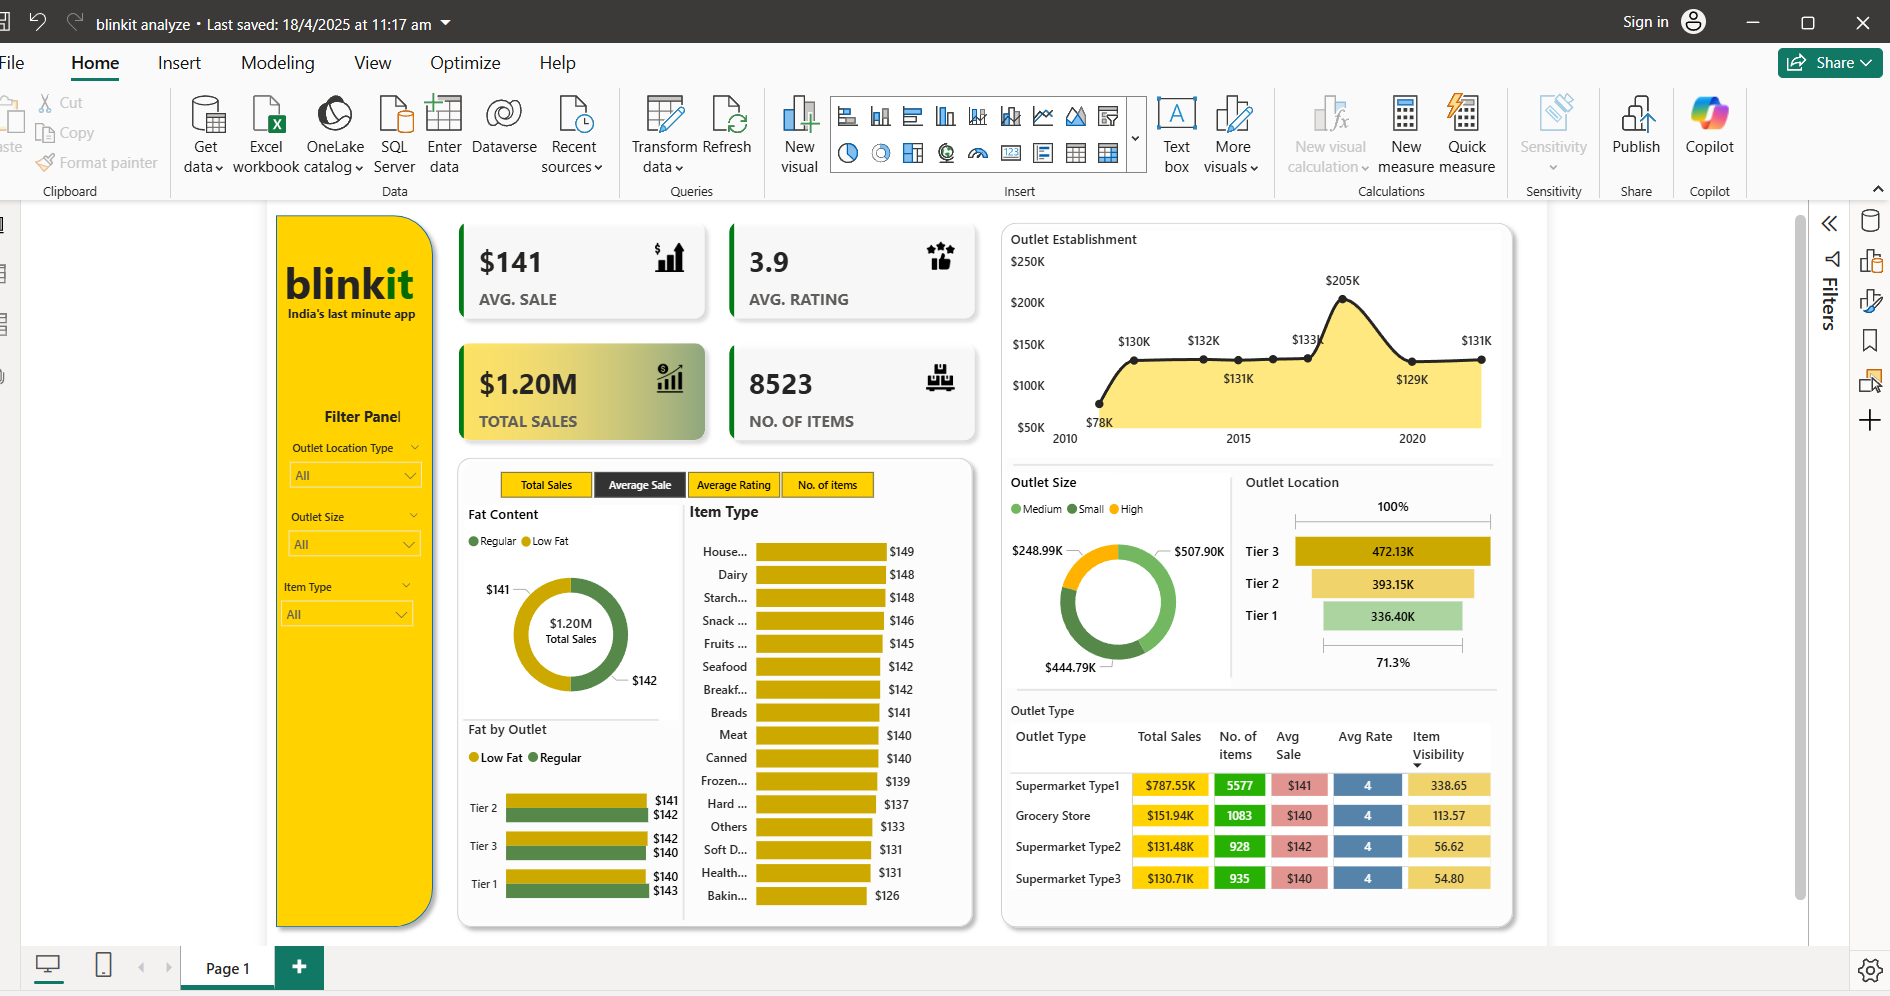

The dashboard page shown, as its layout file describes it:
{"tool":"powerbi","page":{"name":"Page 1","canvas":[1280,800],"ordinal":0},"visuals":[{"type":"shape","box":[0,10,175,730],"z":0},{"type":"textbox","box":[12.5,51.2,162.5,67.5],"z":1000},{"type":"textbox","box":[12.5,102.5,173.8,65],"z":2000},{"type":"cardVisual","fields":{"Data":["BlinkIT Grocery Data.Average Sale","BlinkIT Grocery Data.Average Rating","BlinkIT Grocery Data.Total Sales","BlinkIT Grocery Data.No. of items"]},"box":[175,8.8,550,252.5],"z":3000},{"type":"shape","box":[181.2,252.5,533.8,487.5],"z":4000},{"type":"donutChart","title":"Fat Content","fields":{"Y":["BlinkIT Grocery Data.Average Sale"],"Category":["BlinkIT Grocery Data.Item Fat Content"]},"box":[196.2,308.8,215,215],"z":5000},{"type":"slicer","fields":{"Values":["Metrics.Metrics"]},"box":[207,269,423,40],"z":6000},{"type":"cardVisual","fields":{"Data":["BlinkIT Grocery Data.Total Sales"]},"box":[252.5,400,103.8,67],"z":7000},{"type":"clusteredBarChart","title":"Fat by Outlet","fields":{"Y":["BlinkIT Grocery Data.Average Sale"],"Category":["BlinkIT Grocery Data.Outlet Location Type"],"Series":["BlinkIT Grocery Data.Item Fat Content"]},"box":[196.2,523.8,220,200],"z":8000},{"type":"shape","box":[196.2,491.2,196.2,65],"z":9000},{"type":"shape","box":[397.5,308.8,38.8,415],"z":10000},{"type":"barChart","title":" Item Type","fields":{"Y":["BlinkIT Grocery Data.Average Sale"],"Category":["BlinkIT Grocery Data.Item Type"]},"box":[417.5,305,235,418.8],"z":11000},{"type":"shape","box":[725,17.5,530,722.5],"z":12000},{"type":"lineChart","title":" Outlet Establishment ","fields":{"Y":["BlinkIT Grocery Data.Total Sales"],"Category":["BlinkIT Grocery Data.Outlet Establishment Year"]},"box":[738.8,33.8,495,227.5],"z":13000},{"type":"shape","box":[746.2,256.2,480,25],"z":14000},{"type":"donutChart","title":"Outlet Size","fields":{"Y":["BlinkIT Grocery Data.Total Sales"],"Category":["BlinkIT Grocery Data.Outlet Size"]},"box":[738.8,276.2,225,215],"z":15000},{"type":"shape","box":[945,281.2,38.8,200],"z":16000},{"type":"funnel","title":"Outlet Location","fields":{"Y":["Sum(BlinkIT Grocery Data.Sales)"],"Category":["BlinkIT Grocery Data.Outlet Location Type"]},"box":[973.8,276.2,260,205],"z":17000},{"type":"shape","box":[750,481.2,480,25],"z":18000},{"type":"pivotTable","title":"Outlet Type","fields":{"Rows":["BlinkIT Grocery Data.Outlet Type"],"Values":["BlinkIT Grocery Data.Total Sales","BlinkIT Grocery Data.No. of items","BlinkIT Grocery Data.Average Sale","BlinkIT Grocery Data.Average Rating","Sum(BlinkIT Grocery Data.Item Visibility)"]},"box":[738.8,506.2,503.8,227.5],"z":19000},{"type":"slicer","fields":{"Values":["BlinkIT Grocery Data.Outlet Location Type"]},"box":[12.5,240,152.5,72.5],"z":20000},{"type":"slicer","fields":{"Values":["BlinkIT Grocery Data.Outlet Size"]},"box":[11.2,308.8,152.5,72.5],"z":21000},{"type":"slicer","fields":{"Values":["BlinkIT Grocery Data.Item Type"]},"box":[3.8,378.8,152.5,72.5],"z":22000},{"type":"textbox","box":[12.5,205,133.8,47.5],"z":23000}]}

Visuals, with their boxes on the page's 1280x800 design canvas (x1, y1, x2, y2). These are canvas units, not pixel positions in the 1890x996 screenshot, which may show the page scaled, cropped or inside an application window:
shape: (left=0, top=10, right=175, bottom=740)
textbox: (left=12, top=51, right=175, bottom=119)
textbox: (left=12, top=102, right=186, bottom=168)
cardVisual - BlinkIT Grocery Data.Average Sale x BlinkIT Grocery Data.Average Rating: (left=175, top=9, right=725, bottom=261)
shape: (left=181, top=252, right=715, bottom=740)
"Fat Content" donutChart: (left=196, top=309, right=411, bottom=524)
slicer - Metrics.Metrics: (left=207, top=269, right=630, bottom=309)
cardVisual - BlinkIT Grocery Data.Total Sales: (left=252, top=400, right=356, bottom=467)
"Fat by Outlet" clusteredBarChart: (left=196, top=524, right=416, bottom=724)
shape: (left=196, top=491, right=392, bottom=556)
shape: (left=398, top=309, right=436, bottom=724)
" Item Type" barChart: (left=418, top=305, right=652, bottom=724)
shape: (left=725, top=18, right=1255, bottom=740)
" Outlet Establishment " lineChart: (left=739, top=34, right=1234, bottom=261)
shape: (left=746, top=256, right=1226, bottom=281)
"Outlet Size" donutChart: (left=739, top=276, right=964, bottom=491)
shape: (left=945, top=281, right=984, bottom=481)
"Outlet Location" funnel: (left=974, top=276, right=1234, bottom=481)
shape: (left=750, top=481, right=1230, bottom=506)
"Outlet Type" pivotTable: (left=739, top=506, right=1243, bottom=734)
slicer - BlinkIT Grocery Data.Outlet Location Type: (left=12, top=240, right=165, bottom=312)
slicer - BlinkIT Grocery Data.Outlet Size: (left=11, top=309, right=164, bottom=381)
slicer - BlinkIT Grocery Data.Item Type: (left=4, top=379, right=156, bottom=451)
textbox: (left=12, top=205, right=146, bottom=252)
